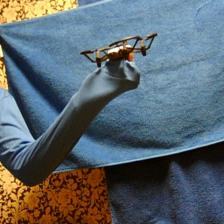drone: (81, 32, 159, 67)
